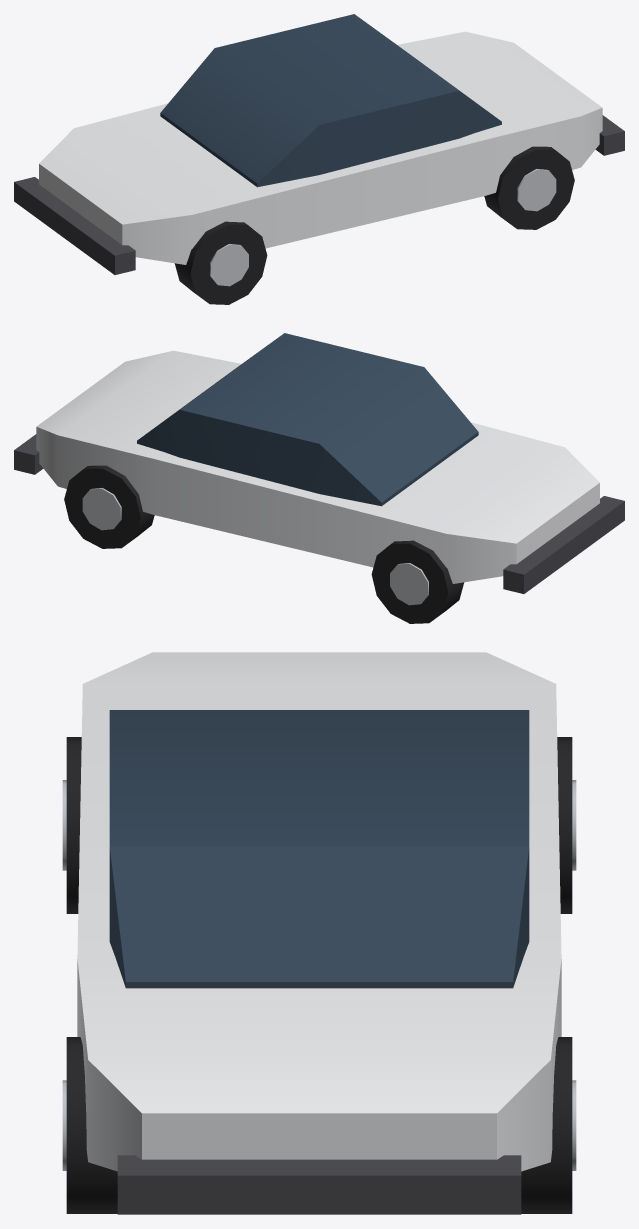
File: car_sedan_white.fbx
3 renders of one model, top to bottom at view 1: azimuth 30°, elevation 25°; view 2: azimuth 150°, elevation 25°; view 3: azimuth 270°, elevation 25°, orthographic. The views are drawn at different scales.
Visible parts, largest first — view 1: Body, Wheel_FR, Wheel_RR; view 2: Body, Wheel_FL, Wheel_RL; view 3: Body, Wheel_RL, Wheel_RR, Wheel_FL, Wheel_FR.
Part boxes in pixels (x1,y1,x2,y2): Body: [14, 14, 624, 274]; Wheel_FR: [174, 221, 267, 304]; Wheel_RR: [484, 146, 574, 229]; Body: [14, 333, 624, 593]; Wheel_FL: [371, 540, 464, 623]; Wheel_RL: [64, 465, 154, 548]; Body: [77, 652, 561, 1214]; Wheel_RL: [521, 1037, 576, 1213]; Wheel_RR: [62, 1037, 117, 1213]; Wheel_FL: [557, 737, 576, 913]; Wheel_FR: [62, 737, 81, 913].
Size of the model in its own units: 4.38 by 1.21 by 1.91.
